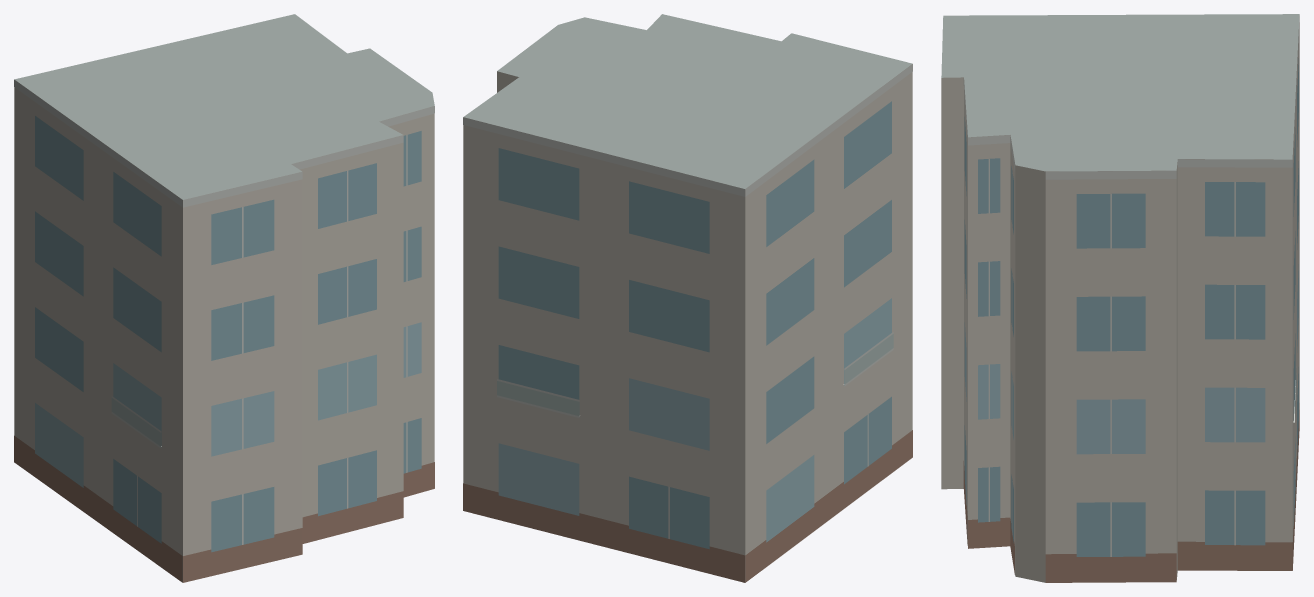
The model's file is survey-upis-32781812.glb.
3 renders of one model, left to right at view 1: azimuth 30°, elevation 25°; view 2: azimuth 150°, elevation 25°; view 3: azimuth 270°, elevation 25°, orthographic. The views are drawn at different scales.
Parts seen in each view (by area): view 1: survey-upis-32781812.tmp; view 2: survey-upis-32781812.tmp; view 3: survey-upis-32781812.tmp.
Boxes of the visible parts, box(x1,y1,x2,y2) form: survey-upis-32781812.tmp: box(14, 14, 434, 582); survey-upis-32781812.tmp: box(463, 14, 912, 582); survey-upis-32781812.tmp: box(941, 14, 1299, 582).
Bounding box in the file's own units: 10.02 × 12.2 × 9.64.
